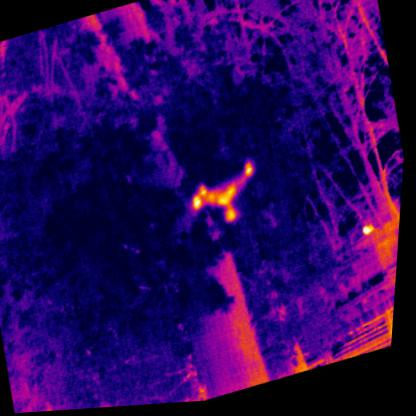drone: (186, 160, 266, 234)
